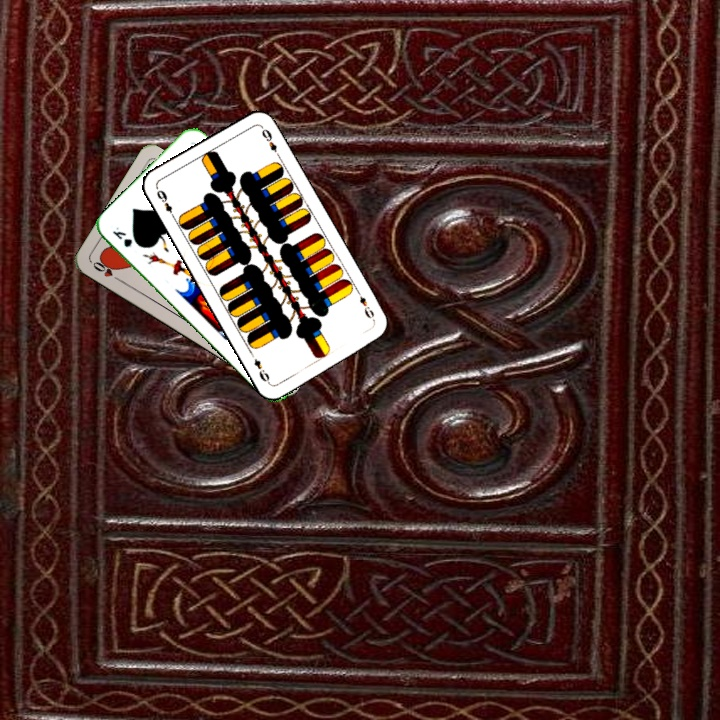E9: (152, 184, 178, 222), (353, 287, 378, 324)
GK: (108, 223, 135, 250)
HO: (89, 256, 125, 285)
